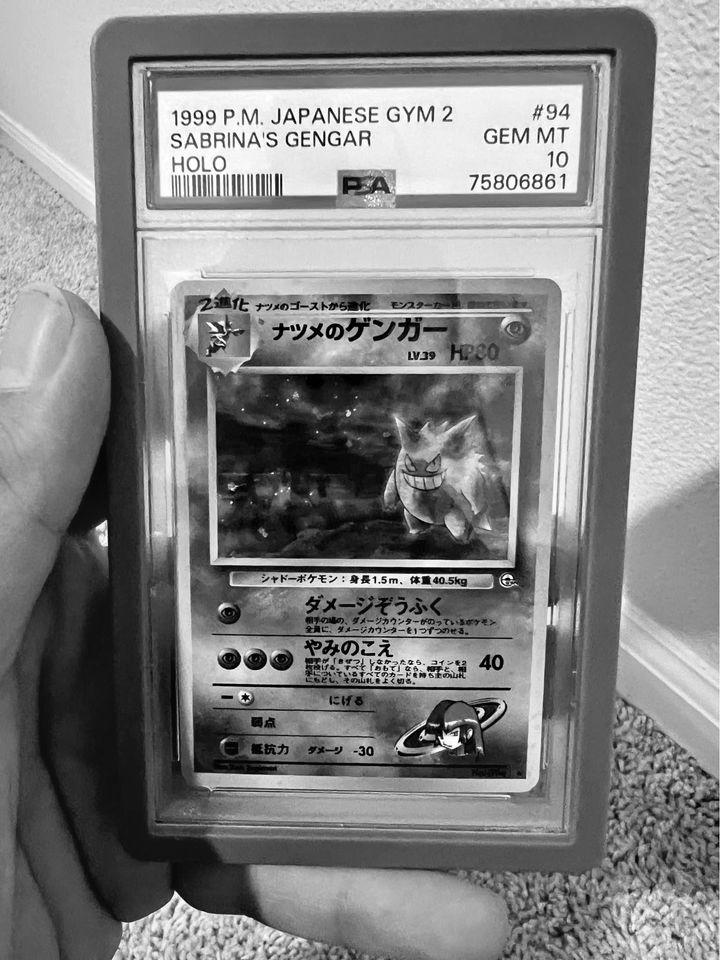card: (168, 275, 564, 794)
